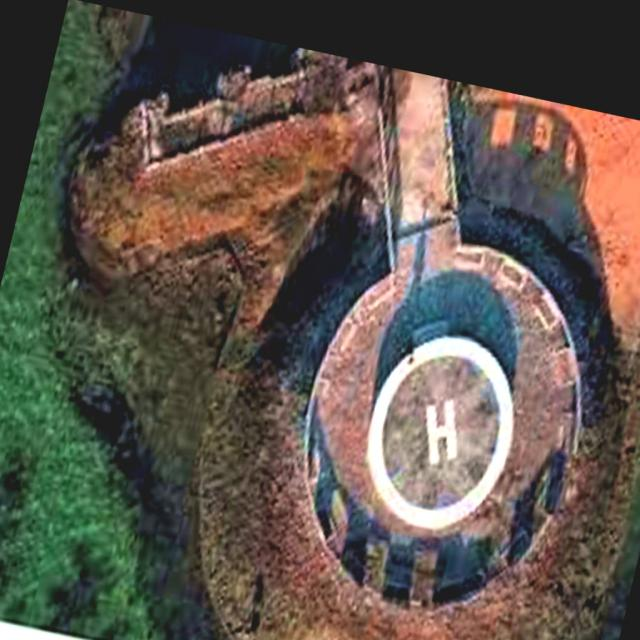helipad: (360, 329, 518, 535)
